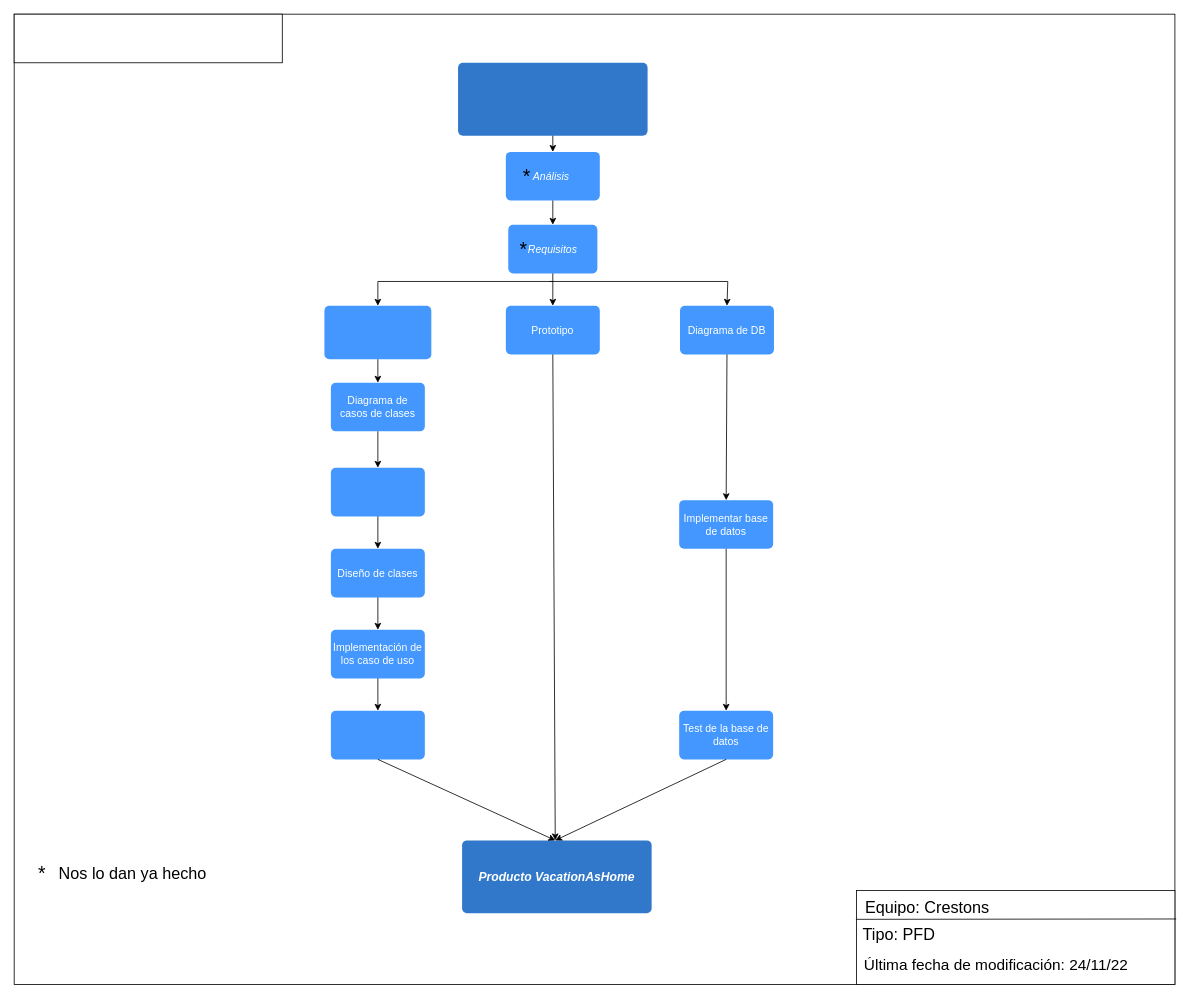
Some shapes in this 1192 by 999 pixel diagram are drawn without their labels. Each missing label, with the box of its shape:
Diagrama de Arquitectura: (324, 305, 431, 359)
Diagrama de secuencia de los casos de uso: (330, 467, 425, 516)
Product Flow Diagram (PFD): (13, 13, 282, 63)
Requisitos y epecificaciones: (457, 62, 648, 136)
Test de los caso de uso: (330, 710, 425, 759)
